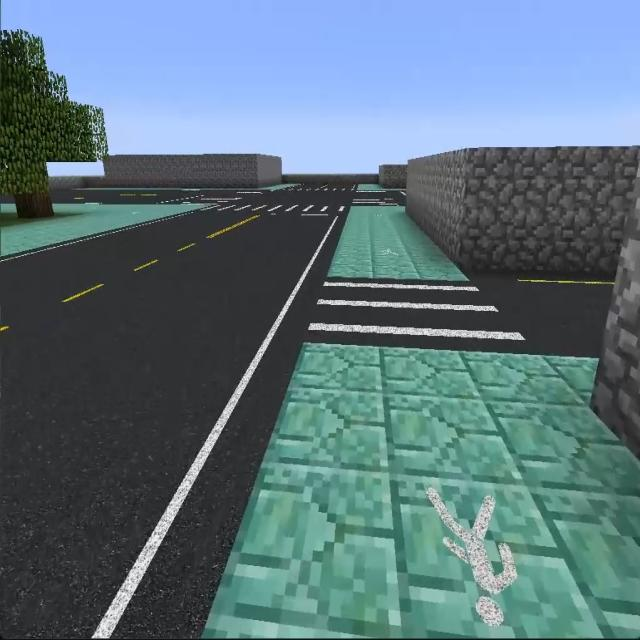8: (197, 202, 348, 214)
crosswalk: (304, 275, 529, 348), (180, 190, 271, 204), (349, 190, 401, 207), (271, 187, 356, 192)
road: (2, 214, 344, 633), (53, 189, 221, 203), (243, 194, 352, 202)
sidewalk: (203, 343, 639, 639), (0, 200, 200, 257), (328, 206, 467, 281), (256, 183, 299, 191), (357, 184, 386, 191)
